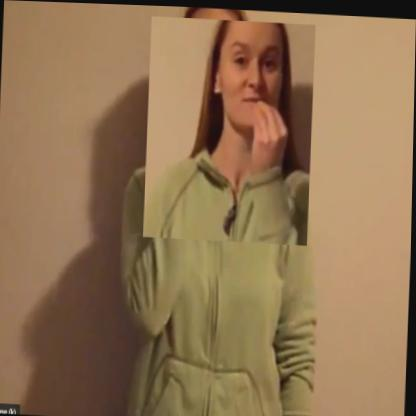Food: (144, 14, 316, 243)
